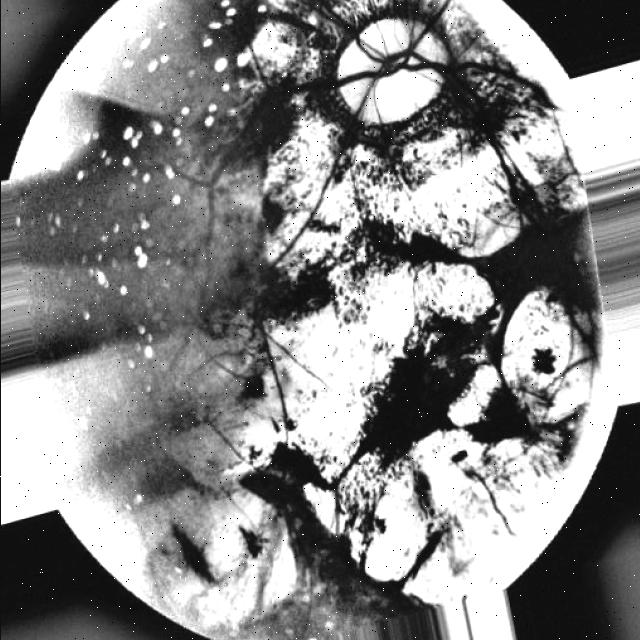Macula: (359, 341, 478, 472)
Nerves: (356, 0, 452, 63), (430, 64, 550, 107), (294, 68, 400, 92)
Optic Disk: (340, 19, 443, 122)
